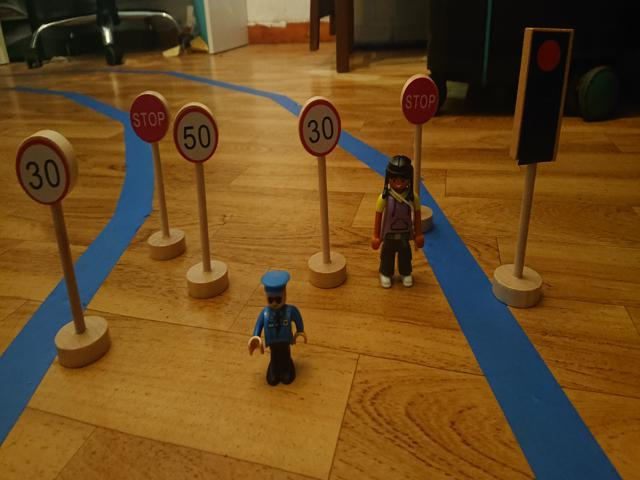30 speed sign: (16, 139, 74, 207), (296, 98, 342, 158)
50 speed sign: (172, 105, 218, 163)
person: (367, 154, 425, 290), (248, 268, 308, 386)
red light: (531, 31, 561, 154)
stop sign: (127, 93, 169, 144), (399, 75, 437, 125)
